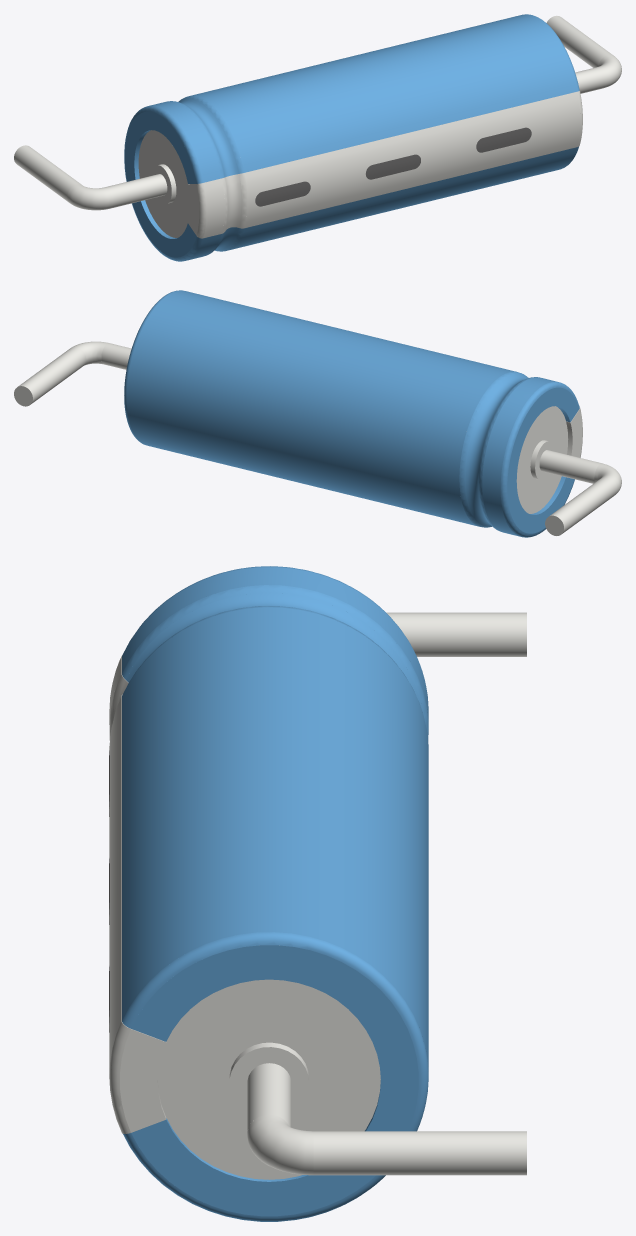
Rendered from CP_Axial_L18.0mm_D6.5mm_P25.00mm_Horizontal.glb.
3 renders of one model, top to bottom at view 1: azimuth 30°, elevation 25°; view 2: azimuth 150°, elevation 25°; view 3: azimuth 270°, elevation 25°, orthographic. The views are drawn at different scales.
Parts seen in each view (by area): view 1: Shape_IndexedFaceSet.009, Shape_IndexedFaceSet.059, Shape_IndexedFaceSet.006, Shape_IndexedFaceSet.074, Shape_IndexedFaceSet, Shape_IndexedFaceSet.063, Shape_IndexedFaceSet.005, Shape_IndexedFaceSet.061, Shape_IndexedFaceSet.065, Shape_IndexedFaceSet.003, Shape_IndexedFaceSet.045, Shape_IndexedFaceSet.062 (+10 smaller); view 2: Shape_IndexedFaceSet.009, Shape_IndexedFaceSet, Shape_IndexedFaceSet.074, Shape_IndexedFaceSet.006, Shape_IndexedFaceSet.005, Shape_IndexedFaceSet.063, Shape_IndexedFaceSet.003, Shape_IndexedFaceSet.065, Shape_IndexedFaceSet.061, Shape_IndexedFaceSet.007, Shape_IndexedFaceSet.002, Shape_IndexedFaceSet.064 (+3 smaller); view 3: Shape_IndexedFaceSet.009, Shape_IndexedFaceSet.069, Shape_IndexedFaceSet.012, Shape_IndexedFaceSet.065, Shape_IndexedFaceSet.011, Shape_IndexedFaceSet, Shape_IndexedFaceSet.061, Shape_IndexedFaceSet.059, Shape_IndexedFaceSet.005, Shape_IndexedFaceSet.056, Shape_IndexedFaceSet.002, Shape_IndexedFaceSet.064 (+3 smaller).
Boxes of the visible parts, x1,y1,x2,y2 form: Shape_IndexedFaceSet.009: [192, 14, 577, 250]; Shape_IndexedFaceSet.059: [244, 92, 580, 227]; Shape_IndexedFaceSet.006: [125, 111, 196, 257]; Shape_IndexedFaceSet.074: [138, 130, 189, 237]; Shape_IndexedFaceSet: [149, 101, 221, 260]; Shape_IndexedFaceSet.063: [105, 67, 605, 208]; Shape_IndexedFaceSet.005: [179, 98, 238, 250]; Shape_IndexedFaceSet.061: [14, 145, 81, 202]; Shape_IndexedFaceSet.065: [546, 15, 613, 67]; Shape_IndexedFaceSet.003: [124, 105, 203, 261]; Shape_IndexedFaceSet.045: [203, 178, 224, 237]; Shape_IndexedFaceSet.062: [67, 184, 112, 210]; Shape_IndexedFaceSet.009: [126, 290, 516, 526]; Shape_IndexedFaceSet: [482, 377, 557, 536]; Shape_IndexedFaceSet.074: [516, 406, 568, 513]; Shape_IndexedFaceSet.006: [507, 387, 578, 533]; Shape_IndexedFaceSet.005: [464, 374, 527, 526]; Shape_IndexedFaceSet.063: [101, 343, 601, 483]; Shape_IndexedFaceSet.003: [500, 381, 579, 537]; Shape_IndexedFaceSet.065: [18, 347, 86, 404]; Shape_IndexedFaceSet.061: [550, 476, 617, 533]; Shape_IndexedFaceSet.007: [459, 371, 528, 527]; Shape_IndexedFaceSet.002: [478, 377, 537, 530]; Shape_IndexedFaceSet.064: [71, 341, 107, 365]; Shape_IndexedFaceSet.009: [122, 607, 428, 1071]; Shape_IndexedFaceSet.069: [157, 979, 380, 1179]; Shape_IndexedFaceSet.012: [131, 945, 418, 1216]; Shape_IndexedFaceSet.065: [313, 1131, 526, 1175]; Shape_IndexedFaceSet.011: [122, 932, 428, 1221]; Shape_IndexedFaceSet: [122, 567, 428, 721]; Shape_IndexedFaceSet.061: [386, 612, 526, 656]; Shape_IndexedFaceSet.059: [109, 696, 121, 1073]; Shape_IndexedFaceSet.005: [126, 593, 422, 711]; Shape_IndexedFaceSet.056: [120, 1029, 165, 1132]; Shape_IndexedFaceSet.002: [122, 585, 428, 740]; Shape_IndexedFaceSet.064: [247, 1114, 313, 1175].
Bounding box in the file's own units: 10.19 × 2.56 × 3.35.
